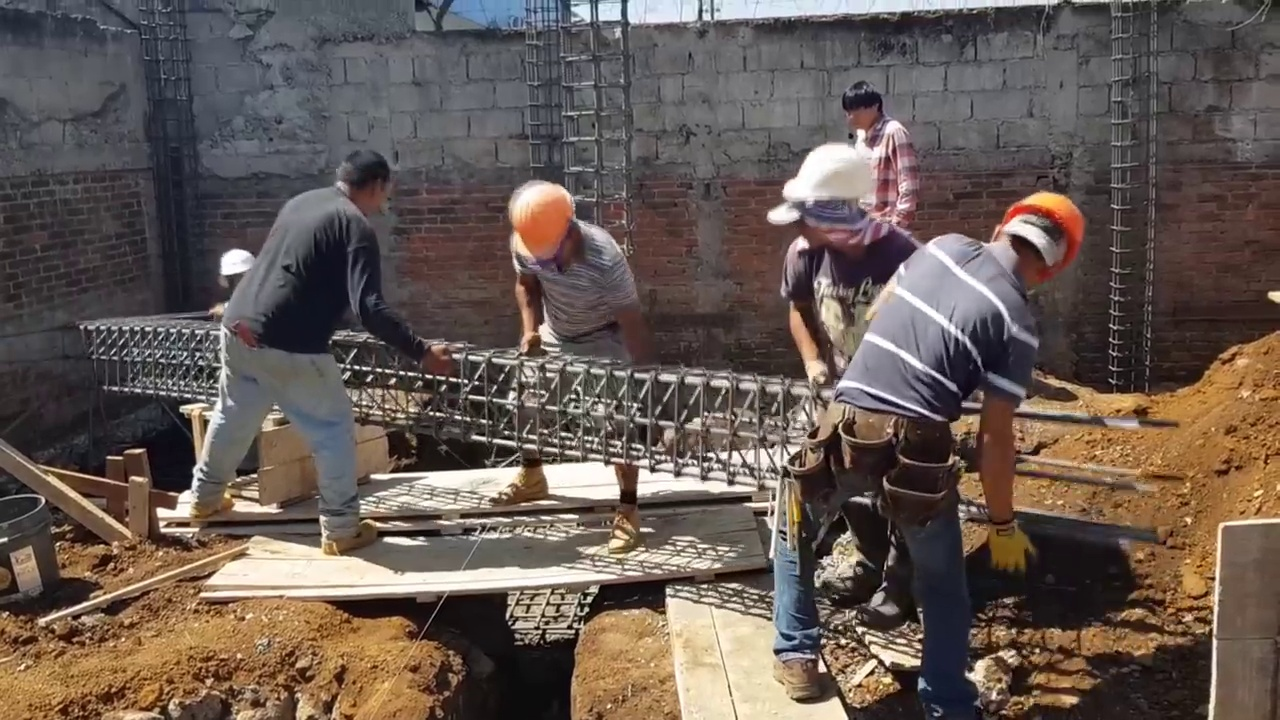helmet: (1002, 185, 1085, 285), (781, 141, 884, 204), (506, 184, 575, 259), (214, 244, 258, 279)
helmet-off: (334, 150, 391, 221), (840, 86, 892, 138)
helmet-on: (767, 141, 884, 255), (986, 186, 1085, 296), (508, 185, 582, 275)
person: (770, 187, 1085, 705), (182, 146, 460, 555), (492, 181, 648, 550), (766, 137, 917, 389), (829, 84, 926, 242)
